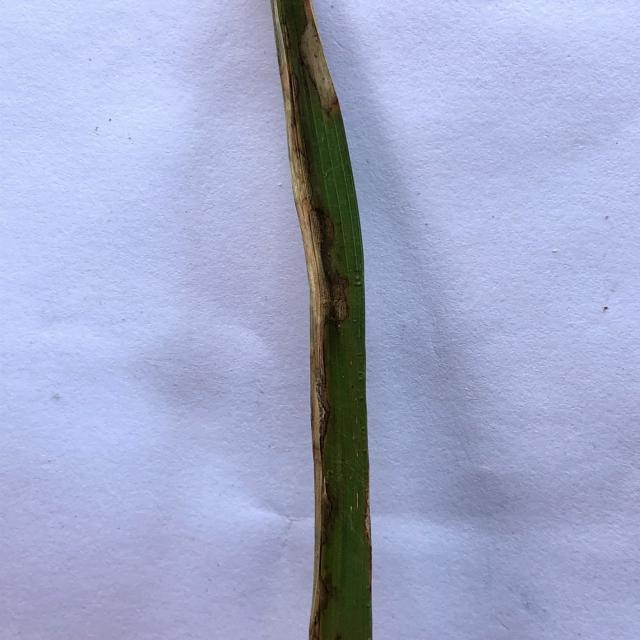leaf blight: (271, 0, 327, 640), (300, 0, 342, 117)
